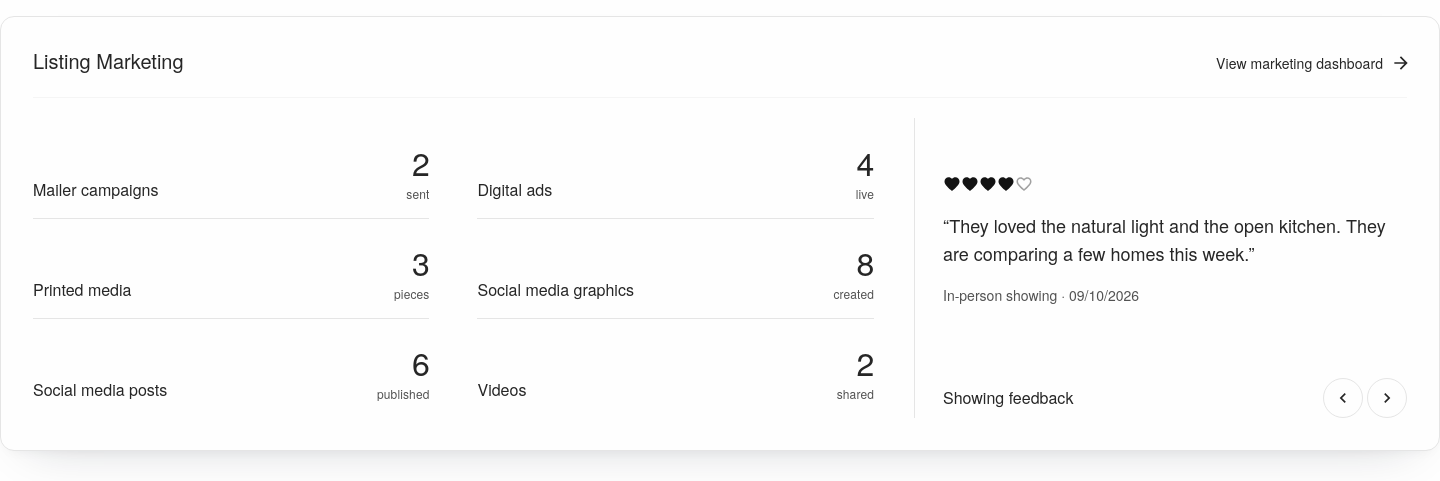
Test case: MarketingSnapshot feedback carousel › cycles through feedback with its source and date
Check: the element with class "marketing-snapshot-feedback-slide" shows "They loved the natural light and the open kitchen. They are comparing a few homes this week.", box [943,212,1386,266]
Check: the element with class "marketing-snapshot-feedback-slide" shows "In-person showing", box [943,285,1057,305]
Click the button named "Next showing feedback" at (1387, 398), box [1367,378,1407,418]
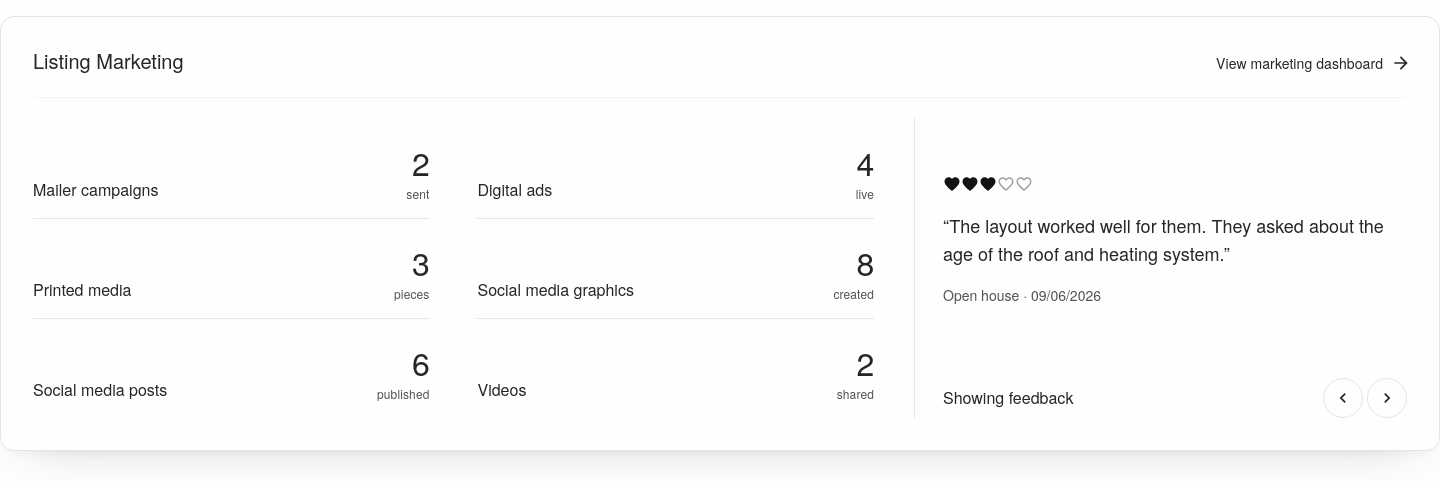
Check: the element with class "marketing-snapshot-feedback-slide" shows "The layout worked well for them. They asked about the age of the roof and heating system.", box [943,212,1384,266]
Click the button named "Previous showing feedback" at (1343, 398), box [1323,378,1363,418]
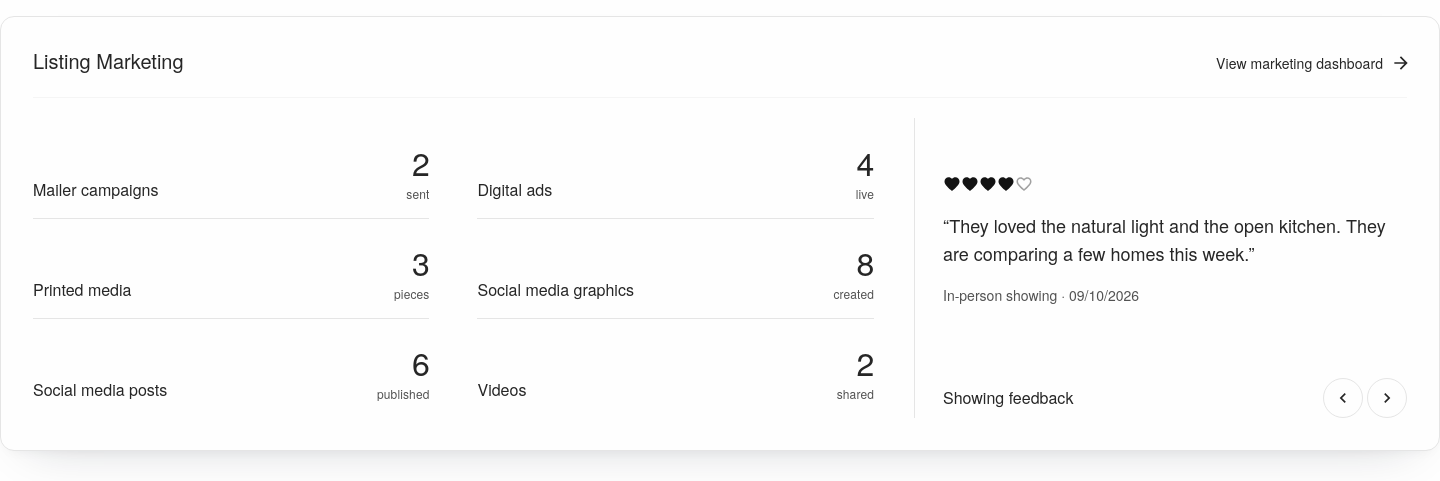
Check: the element with class "marketing-snapshot-feedback-slide" shows "They loved the natural light and the open kitchen. They are comparing a few homes this week.", box [943,212,1386,266]
Click the button named "Previous showing feedback" at (1343, 398), box [1323,378,1363,418]
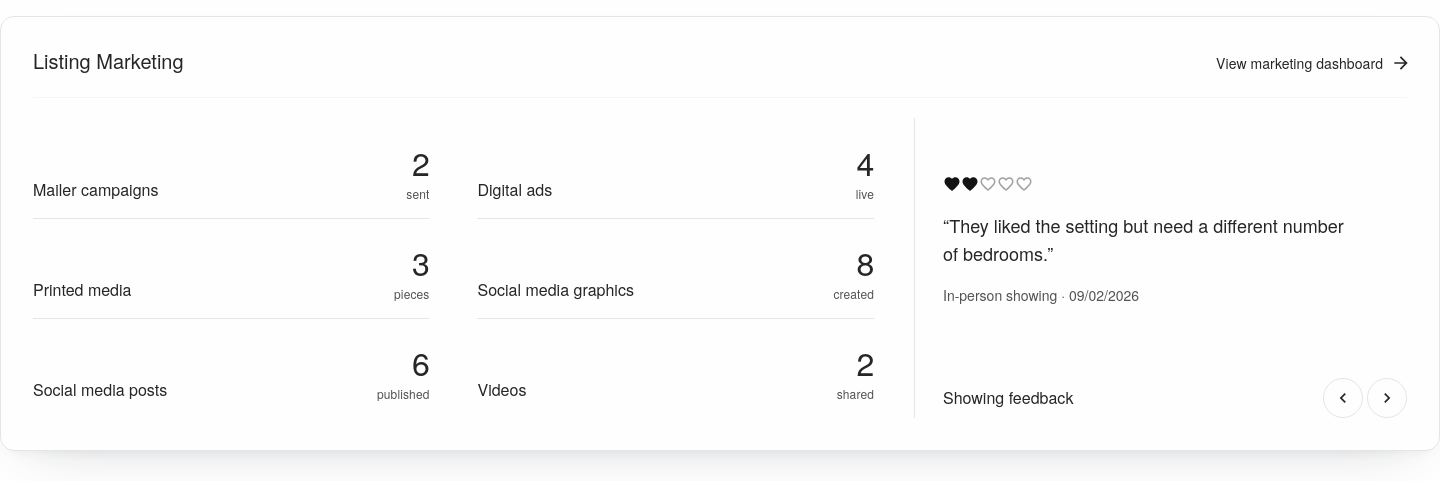
Check: the element with class "marketing-snapshot-feedback-slide" shows "They liked the setting but need a different number of bedrooms.", box [943,212,1344,266]
